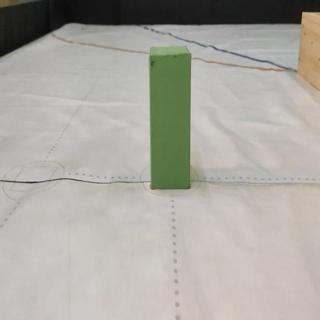greenbox: (149, 47, 192, 190)
